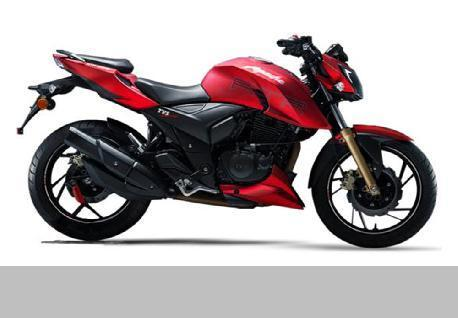motorbike: (17, 34, 436, 249)
